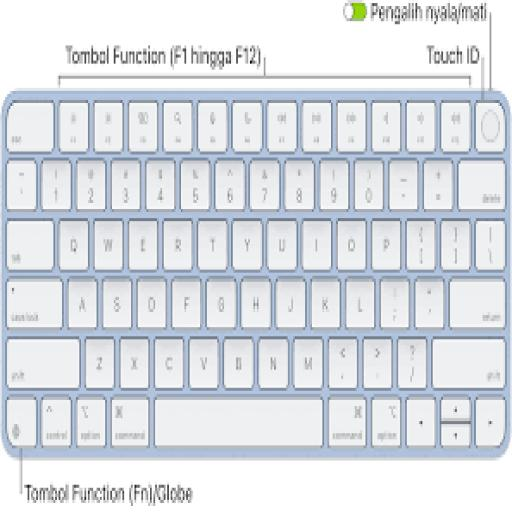KEYBOARD-2: (0, 88, 510, 454)
